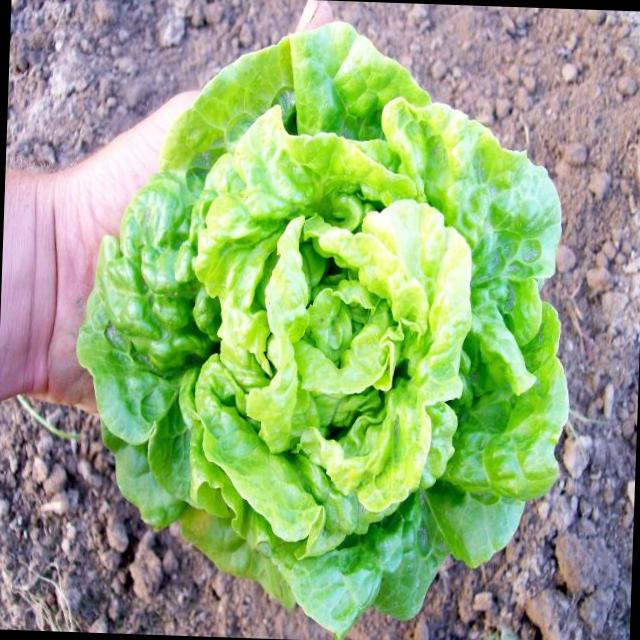Lettuce-Ready-to-Harvest: (78, 23, 567, 637)
